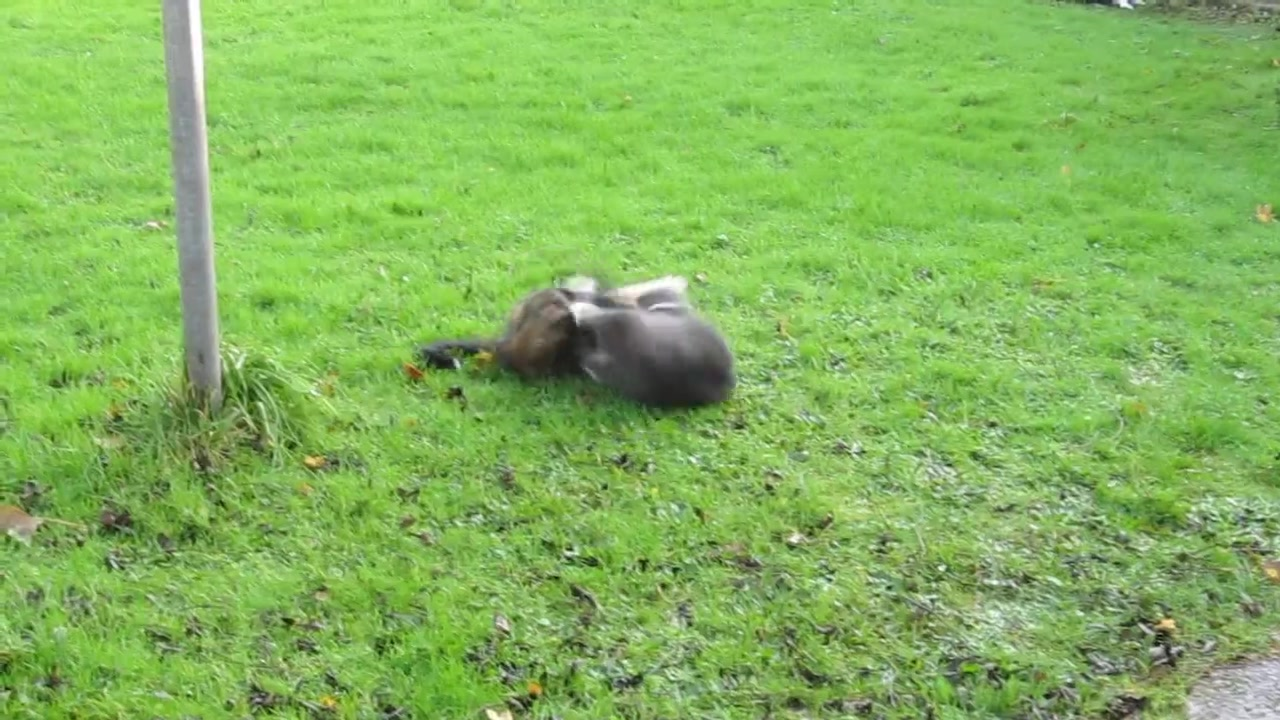cat: (423, 274, 738, 412)
